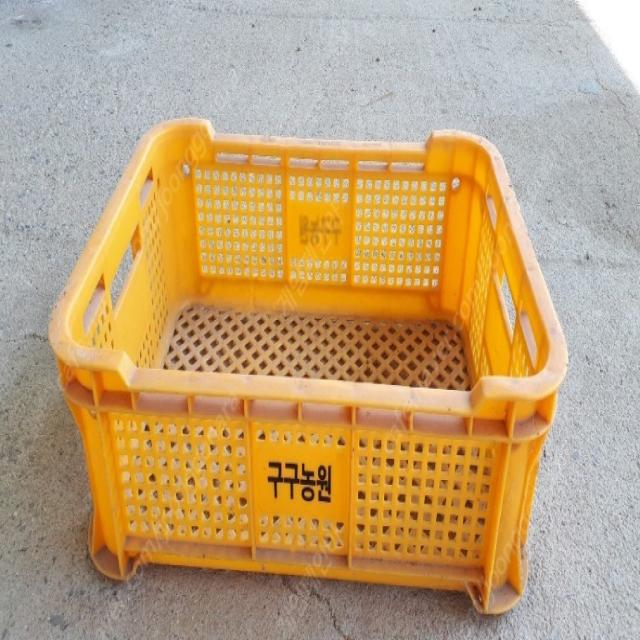basket: (35, 111, 580, 617)
